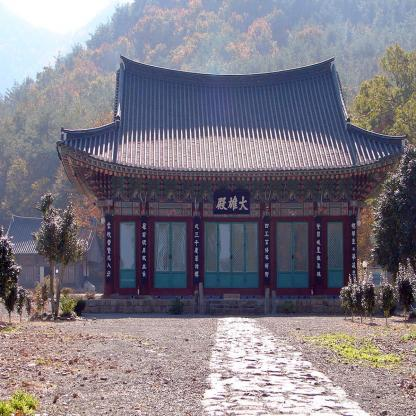Building Outline: (56, 51, 408, 295)
Deco: (215, 192, 250, 215), (106, 217, 113, 283), (141, 217, 148, 283), (193, 217, 200, 283), (263, 217, 270, 283), (315, 217, 322, 283), (351, 217, 357, 283)
Dont: (339, 260, 378, 324)
Door: (204, 222, 258, 288), (155, 222, 187, 288), (277, 222, 309, 288), (119, 222, 135, 288), (327, 222, 343, 288)
Facade: (103, 173, 357, 295)
Ground Floor: (103, 200, 357, 295)
Roof: (56, 51, 408, 201)
